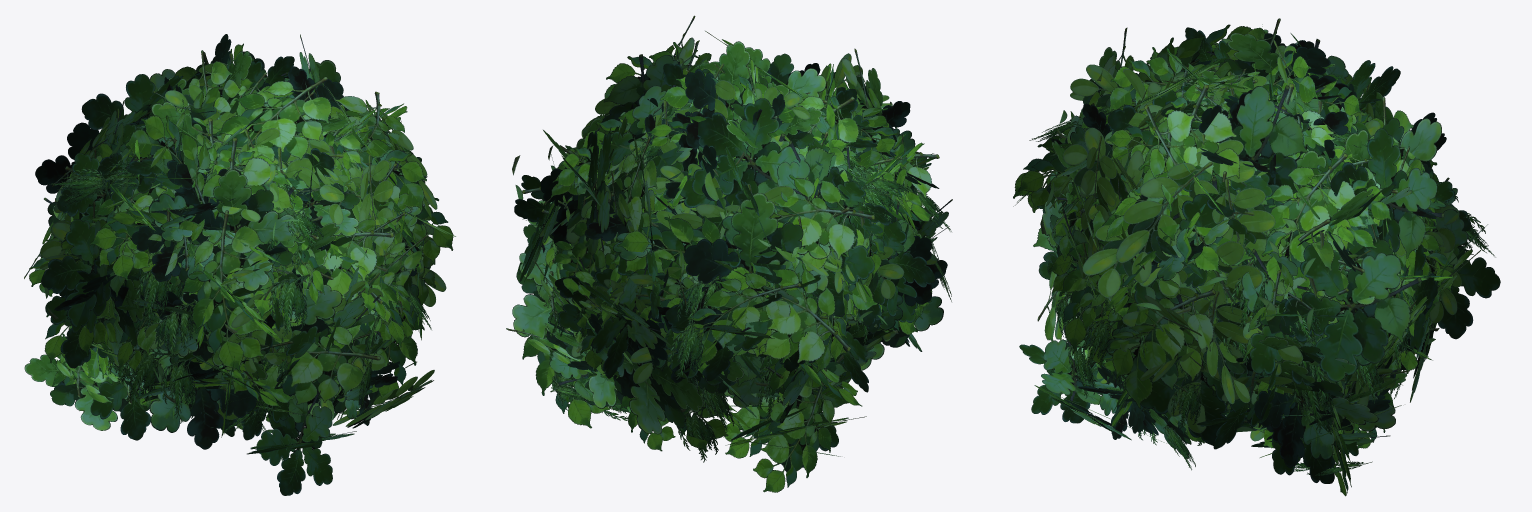
The model's file is bush.glb.
3 renders of one model, left to right at view 1: azimuth 30°, elevation 25°; view 2: azimuth 150°, elevation 25°; view 3: azimuth 270°, elevation 25°, orthographic. The views are drawn at different scales.
Parts seen in each view (by area): view 1: Fable_bush; view 2: Fable_bush; view 3: Fable_bush.
Boxes of the visible parts, x1,y1,x2,y2 form: Fable_bush: (24,34,455,495); Fable_bush: (506,15,952,492); Fable_bush: (1013,18,1500,496).
Size of the model in its own units: 1.72 by 1.57 by 1.67.
1 material, 1 textured.
